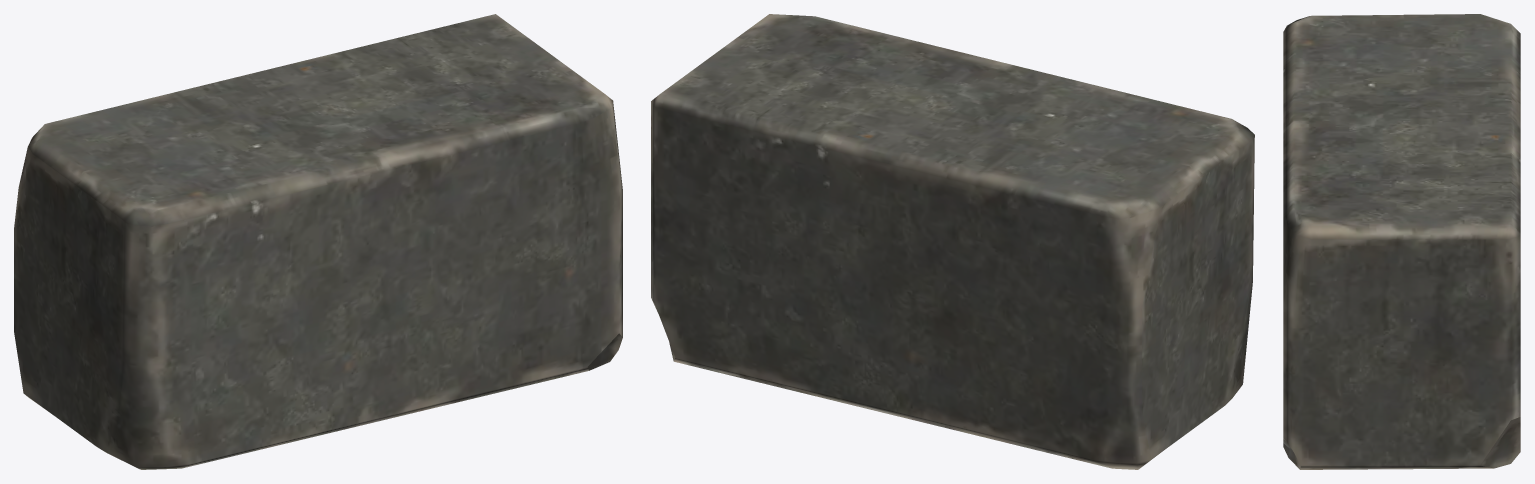
3 renders of one model, left to right at view 1: azimuth 30°, elevation 25°; view 2: azimuth 150°, elevation 25°; view 3: azimuth 270°, elevation 25°, orthographic. The views are drawn at different scales.
Parts seen in each view (by area): view 1: SM_SaradominTemple_Brick_01_LOD0; view 2: SM_SaradominTemple_Brick_01_LOD0; view 3: SM_SaradominTemple_Brick_01_LOD0.
Part boxes in pixels (box(x1,y1,x2,y2)): SM_SaradominTemple_Brick_01_LOD0: box(14, 14, 622, 469); SM_SaradominTemple_Brick_01_LOD0: box(651, 14, 1254, 469); SM_SaradominTemple_Brick_01_LOD0: box(1283, 14, 1520, 469).
Size of the model in its own units: 1.21 by 0.6204 by 0.5476.
Materials: 1 (1 with a texture image).
